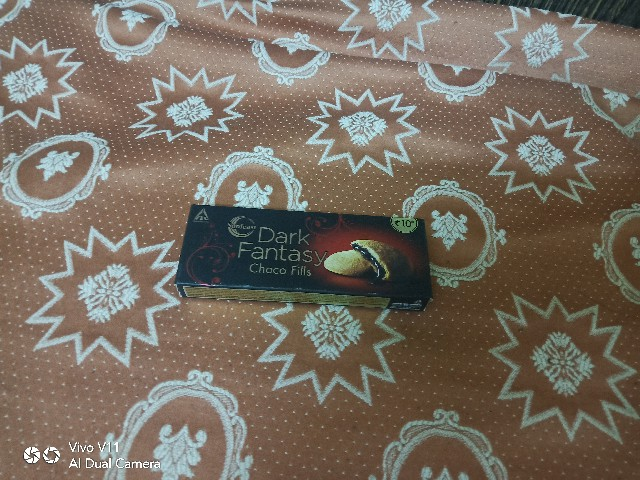darkfantasy small: (169, 197, 456, 325)
